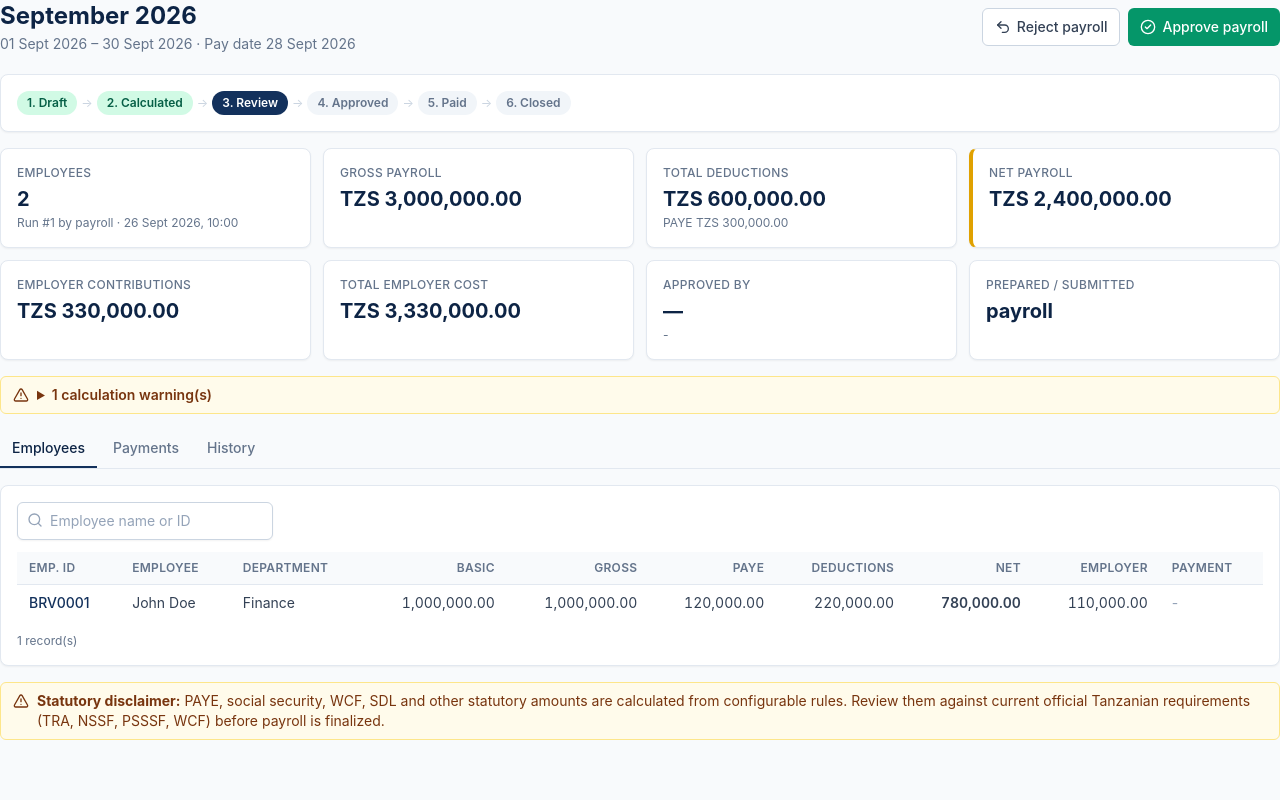
Test case: Payroll workflow page › requires a comment to reject
Click the button "Reject payroll": (1051, 27) [982,8,1120,46]
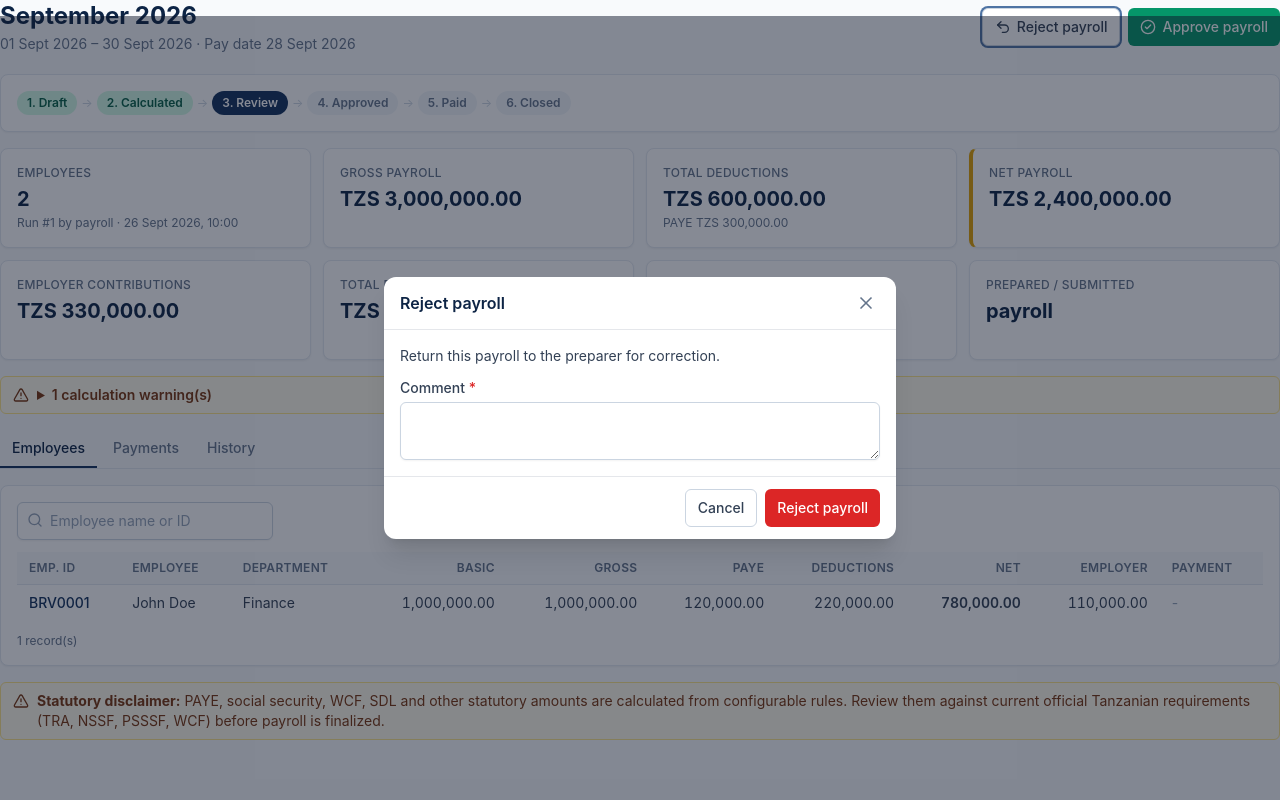
Result: the text box labelled "Comment *" is shown at [400,402,880,460]
